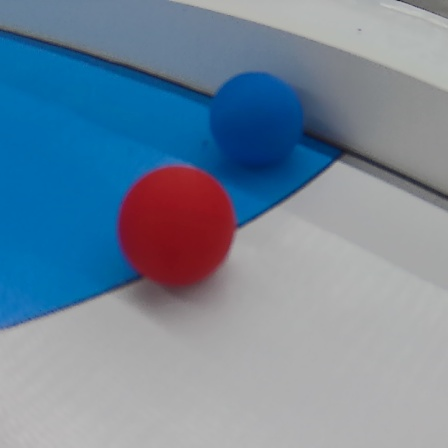blue: (207, 66, 305, 166)
blue_base: (0, 25, 343, 332)
red: (115, 164, 236, 290)
